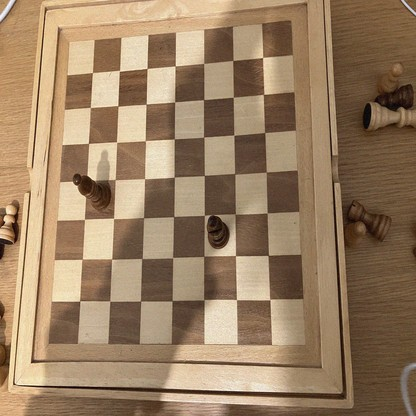bishop_black: (73, 174, 110, 210), (207, 217, 229, 249)
pawn_black: (374, 87, 412, 106)
pawn_white: (0, 202, 19, 244), (379, 61, 402, 87), (345, 222, 366, 246)
rock_black: (350, 202, 389, 240)
